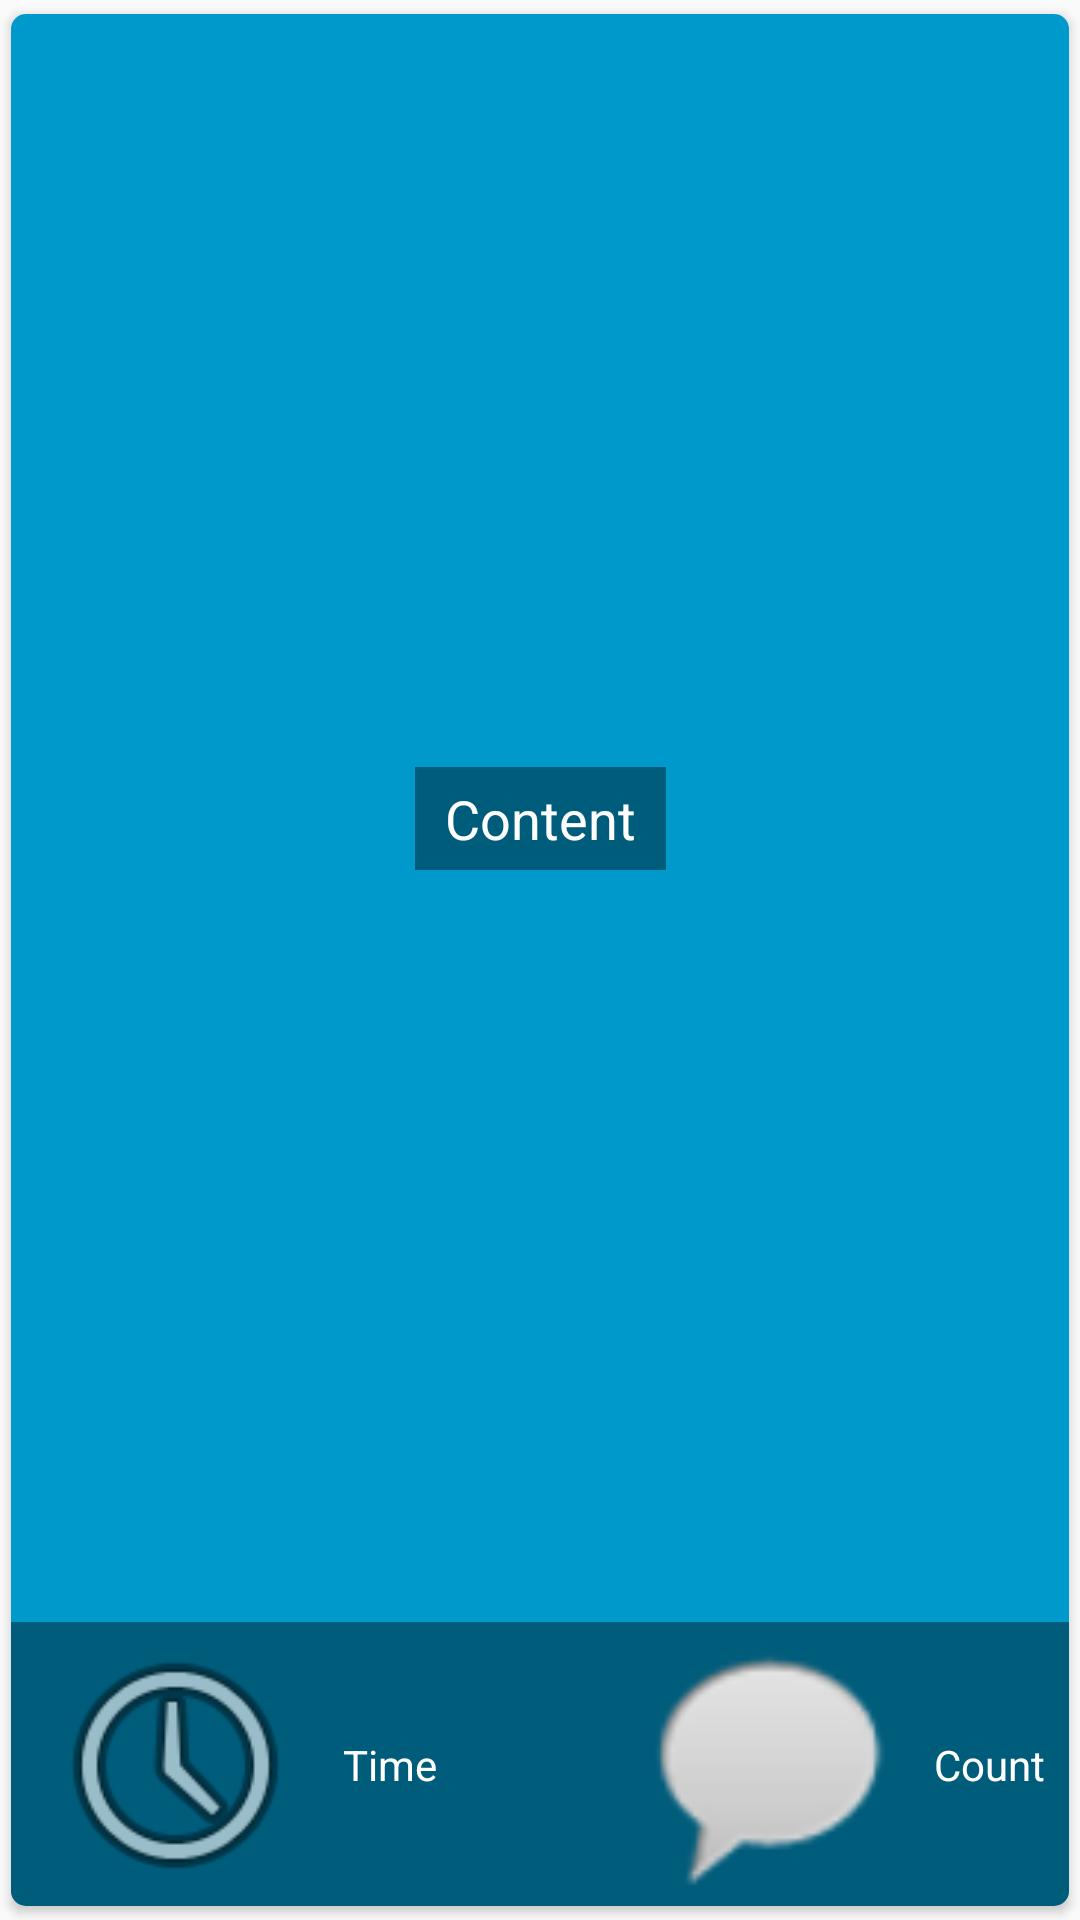

Icons on this 1080 × 1920 Android screen, each with the point to tap as (x,y):
recent history: (175,1765)
sym action chat: (770,1770)
